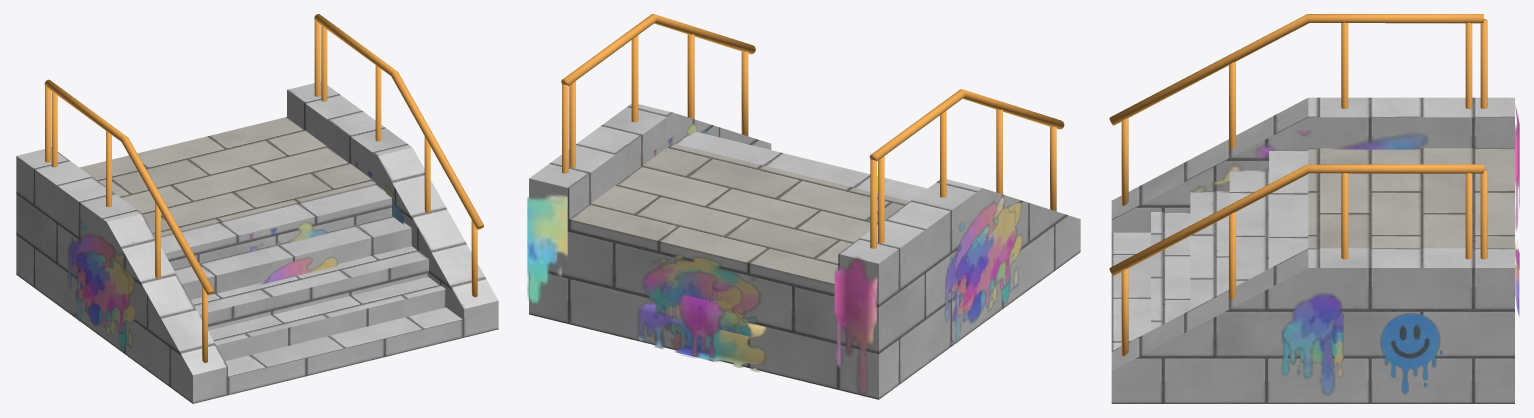
Rendered from StairSet.glb.
3 views of the same model, side by side, from view 1: azimuth 30°, elevation 25°; view 2: azimuth 150°, elevation 25°; view 3: azimuth 270°, elevation 25° (orthographic). The views are drawn at different scales.
Visible parts, largest first — view 1: StairSet_Side-1, StairSet_Top, StairSet_Rail-1, StairSet_Paint; view 2: StairSet_Side-1, StairSet_Paint, StairSet_Top, StairSet_Rail-1; view 3: StairSet_Side-1, StairSet_Top, StairSet_Rail-1, StairSet_Paint, StairSet_Gfx.
Boxes of the visible parts, x1,y1,x2,y2 form: StairSet_Side-1: [16, 82, 498, 403]; StairSet_Top: [79, 117, 377, 237]; StairSet_Rail-1: [44, 14, 483, 362]; StairSet_Paint: [67, 161, 403, 350]; StairSet_Side-1: [529, 103, 1080, 399]; StairSet_Paint: [527, 123, 1022, 395]; StairSet_Top: [569, 143, 909, 285]; StairSet_Rail-1: [561, 14, 1064, 248]; StairSet_Side-1: [1111, 97, 1514, 403]; StairSet_Top: [1308, 148, 1514, 248]; StairSet_Rail-1: [1109, 14, 1487, 356]; StairSet_Paint: [1187, 106, 1519, 395]; StairSet_Gfx: [1380, 313, 1442, 394].
Bounding box in the file's own units: 3.98 × 2.49 × 3.97.
Materials: 4 (3 with a texture image).
